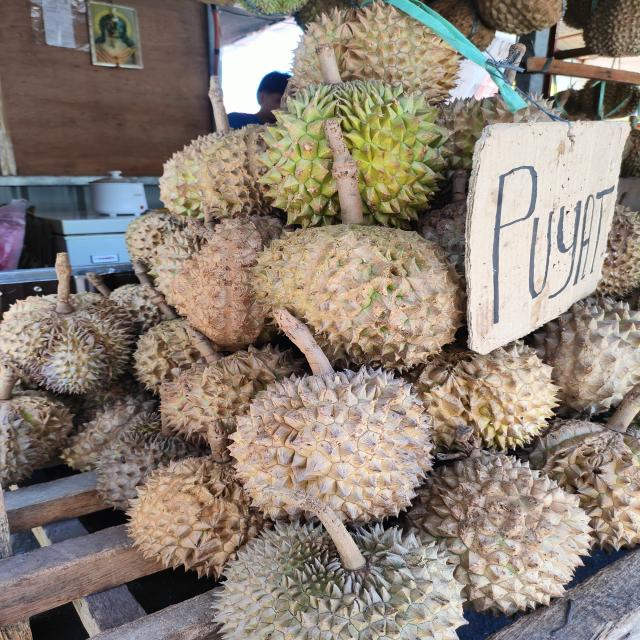mature: (222, 363, 436, 526), (395, 447, 595, 617), (247, 224, 468, 374), (212, 523, 470, 640), (392, 338, 564, 457), (156, 212, 298, 352), (280, 0, 462, 107), (123, 451, 273, 580), (3, 292, 138, 395), (161, 123, 286, 218)
